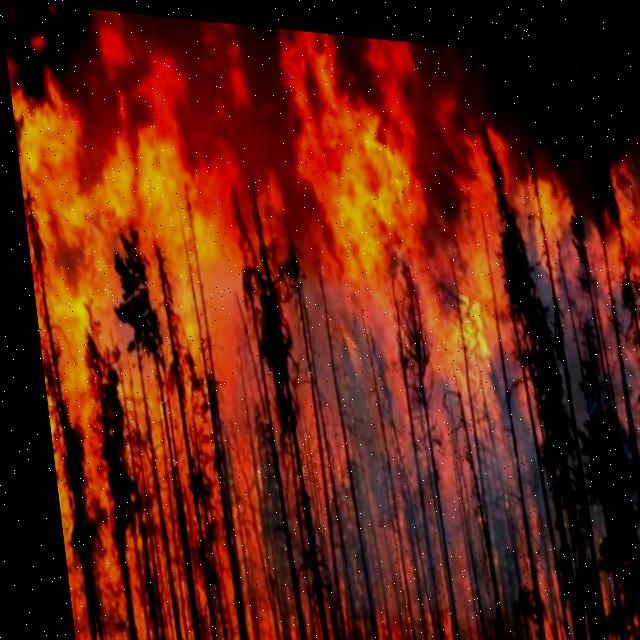Fire: (5, 10, 639, 639)
